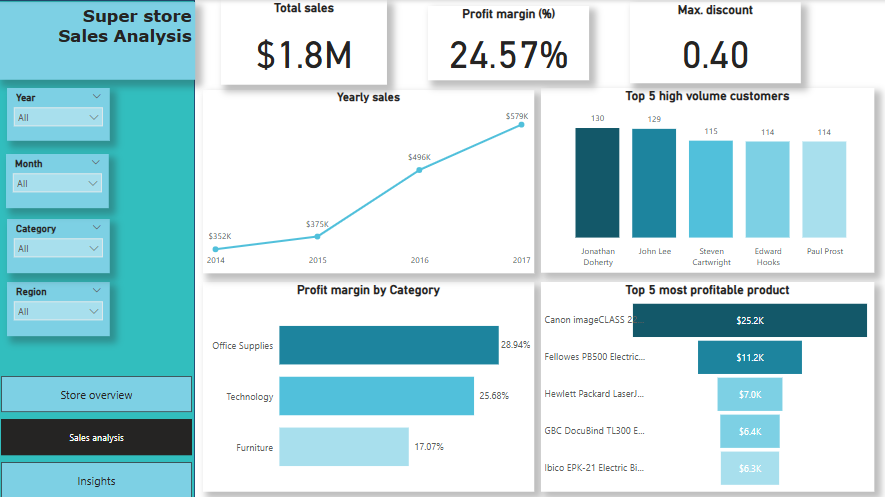

The dashboard page shown, as its layout file describes it:
{"tool":"powerbi","page":{"name":"Sales analysis","canvas":[1280,720],"ordinal":1},"visuals":[{"type":"shape","box":[0,0,283.7,720],"z":0},{"type":"barChart","fields":{"Category":["Sample - Superstore.Category"],"Y":["Sample - Superstore.Profit margin"]},"box":[295.2,406.1,476.6,302.4],"z":1000},{"type":"lineChart","title":"Yearly sales","fields":{"Y":["Sample - Superstore.Sales"],"Category":["Sample - Superstore.Order Date.Variation.Date Hierarchy.Year"]},"box":[295.2,129.6,476.6,263.5],"z":2000},{"type":"columnChart","title":"Top 5 high volume customers","fields":{"Y":["Sample - Superstore.Quantity"],"Category":["Sample - Superstore.Customer Name"]},"box":[781.9,126.7,479.5,266.4],"z":3000},{"type":"funnel","title":"Top 5 most profitable product","fields":{"Category":["Sample - Superstore.Product Name"],"Y":["Sample - Superstore.Profit"]},"box":[781.9,406.1,479.5,302.4],"z":4000},{"type":"textbox","box":[0,2.9,283.7,112.3],"z":5000},{"type":"slicer","fields":{"Values":["Sample - Superstore.Region"]},"box":[13,406.1,148.3,77.8],"z":6000},{"type":"slicer","fields":{"Values":["Sample - Superstore.Category"]},"box":[13,315.4,148.3,77.8],"z":7000},{"type":"pageNavigator","box":[4.3,541.4,275,178.6],"z":8000},{"type":"card","title":"Profit margin (%)","fields":{"Values":["Sample - Superstore.Profit margin"]},"box":[619.2,8.6,231.8,106.6],"z":9000},{"type":"card","title":"Max. discount","fields":{"Values":["Sample - Superstore.Discount"]},"box":[910.1,2.9,246.2,116.6],"z":10000},{"type":"card","title":"Total sales","fields":{"Values":["Sample - Superstore.Sales"]},"box":[321.1,0,239,122.4],"z":11000},{"type":"slicer","fields":{"Values":["Sample - Superstore.Order Date.Variation.Date Hierarchy.Year"]},"box":[13,126.7,148.3,76.3],"z":12000},{"type":"slicer","fields":{"Values":["Sample - Superstore.Order Date.Variation.Date Hierarchy.Month"]},"box":[11.5,221.8,148.3,77.8],"z":13000}]}

Visuals, with their boxes in screenshot pixels (x1, y1, x2, y2), scaled from the page's 1280x720 canvas onto the 885x497 screenshot:
shape: {"left": 0, "top": 0, "right": 196, "bottom": 496}
barChart - Sample - Superstore.Category x Sample - Superstore.Profit margin: {"left": 204, "top": 280, "right": 534, "bottom": 489}
"Yearly sales" lineChart: {"left": 204, "top": 89, "right": 534, "bottom": 271}
"Top 5 high volume customers" columnChart: {"left": 541, "top": 87, "right": 872, "bottom": 271}
"Top 5 most profitable product" funnel: {"left": 541, "top": 280, "right": 872, "bottom": 489}
textbox: {"left": 0, "top": 2, "right": 196, "bottom": 80}
slicer - Sample - Superstore.Region: {"left": 9, "top": 280, "right": 112, "bottom": 334}
slicer - Sample - Superstore.Category: {"left": 9, "top": 218, "right": 112, "bottom": 271}
pageNavigator: {"left": 3, "top": 374, "right": 193, "bottom": 496}
"Profit margin (%)" card: {"left": 428, "top": 6, "right": 588, "bottom": 80}
"Max. discount" card: {"left": 629, "top": 2, "right": 799, "bottom": 82}
"Total sales" card: {"left": 222, "top": 0, "right": 387, "bottom": 84}
slicer - Sample - Superstore.Order Date.Variation.Date Hierarchy.Year: {"left": 9, "top": 87, "right": 112, "bottom": 140}
slicer - Sample - Superstore.Order Date.Variation.Date Hierarchy.Month: {"left": 8, "top": 153, "right": 110, "bottom": 207}
